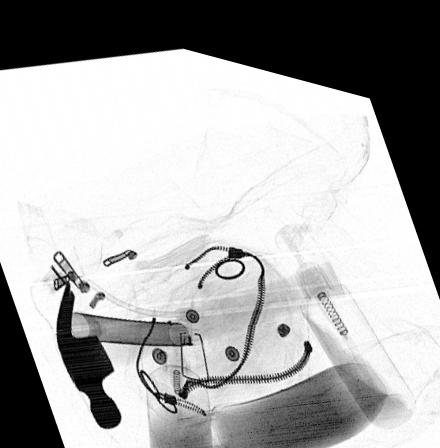Hammer: (54, 242, 343, 422)
